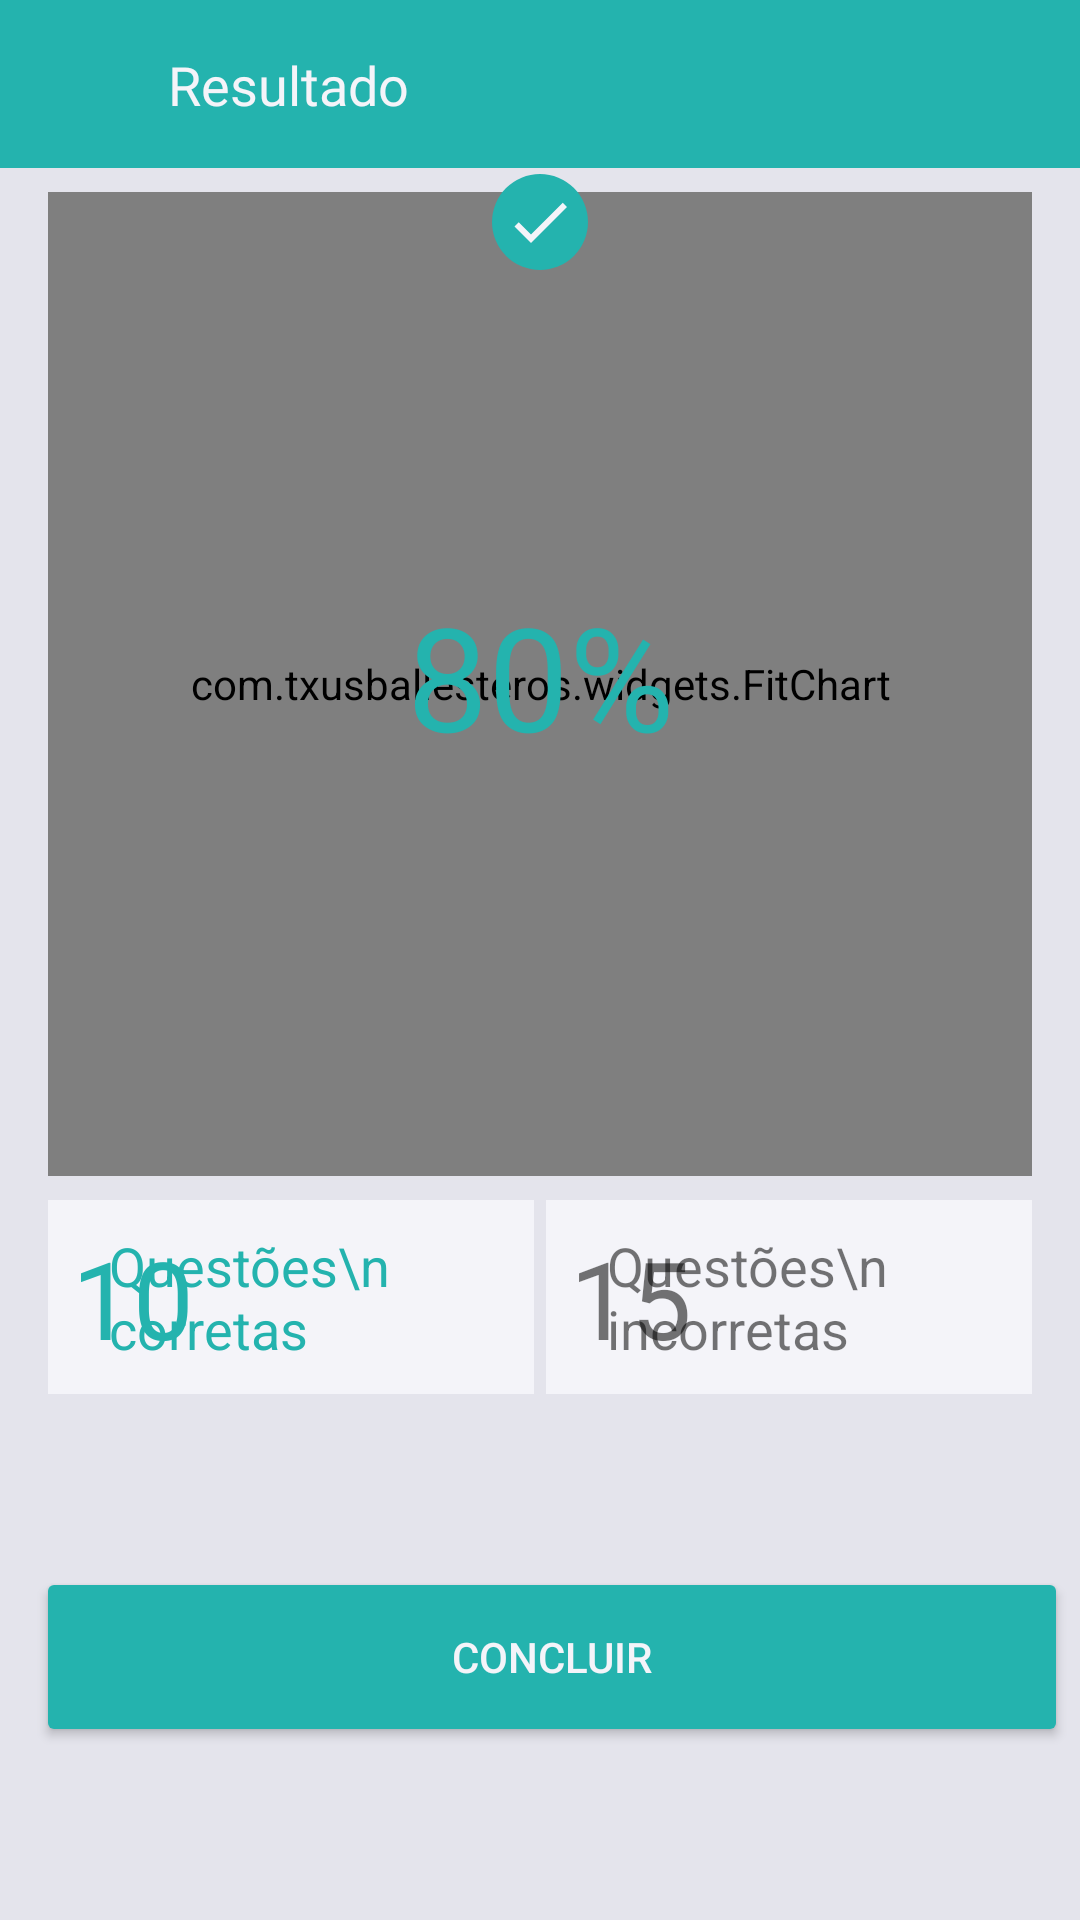

Where to tap for icons on this 1080 x 1920 app screen, as (x,y):
check: (540,223)
